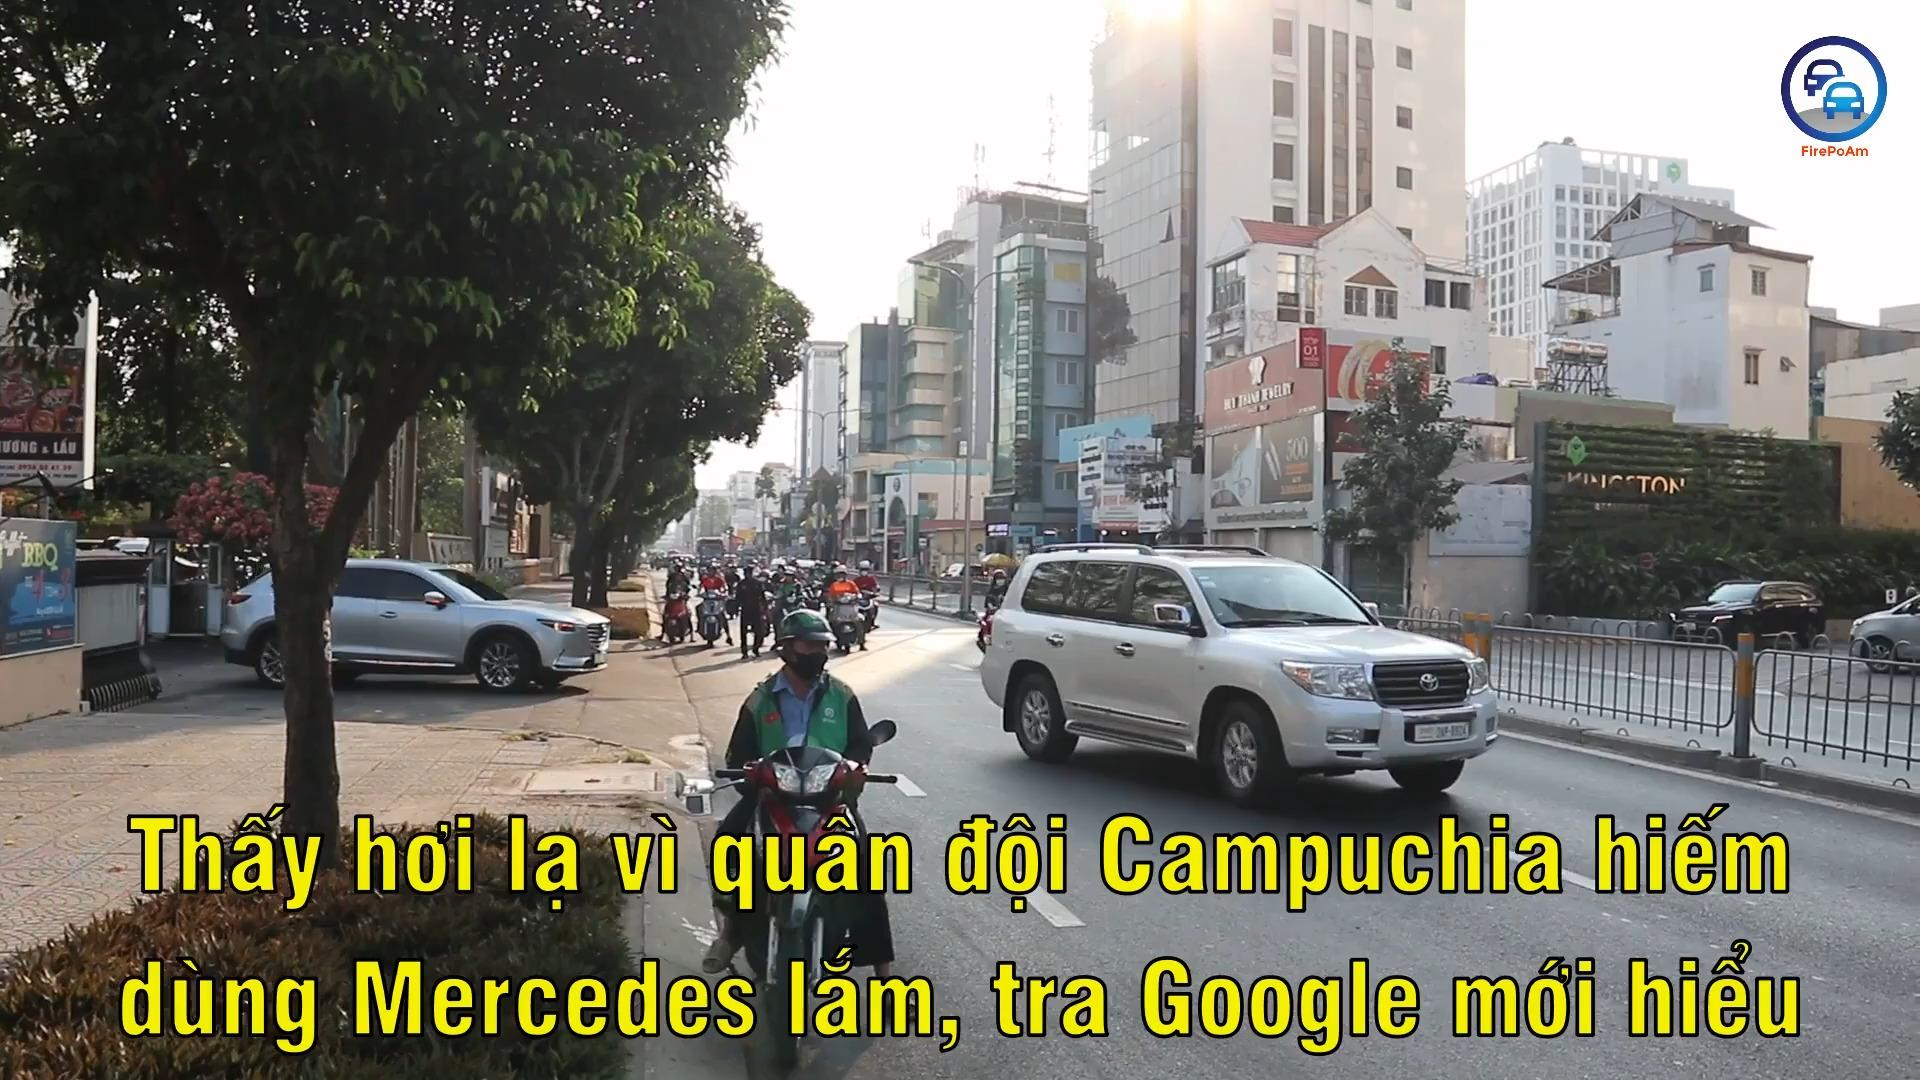bien_so: (1412, 721, 1471, 742)
